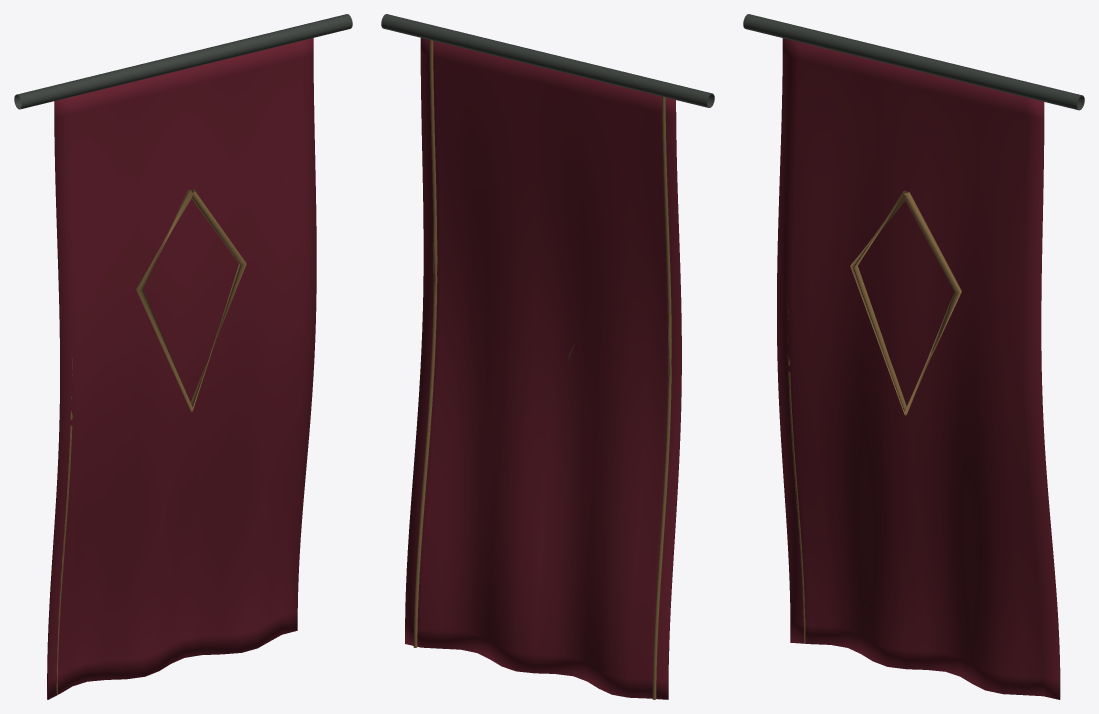
Rendered from C06_embroidered_banner.gltf.
3 views of the same model, side by side, from view 1: azimuth 30°, elevation 25°; view 2: azimuth 150°, elevation 25°; view 3: azimuth 330°, elevation 25° (orthographic). The views are drawn at different scales.
Visible parts, largest first — view 1: Woven hanging standard, Banner suspension rod, Covenant embroidery, Embroidered selvage; view 2: Woven hanging standard, Banner suspension rod, Embroidered selvage.001, Embroidered selvage; view 3: Woven hanging standard, Banner suspension rod, Covenant embroidery, Embroidered selvage.
Part boxes in pixels (x1,y1,x2,y2): Woven hanging standard: (47, 38, 316, 699); Banner suspension rod: (14, 14, 352, 109); Covenant embroidery: (136, 189, 246, 411); Embroidered selvage: (56, 354, 72, 695); Woven hanging standard: (405, 38, 681, 699); Banner suspension rod: (381, 14, 714, 107); Embroidered selvage.001: (413, 40, 437, 647); Embroidered selvage: (652, 96, 671, 699); Woven hanging standard: (777, 38, 1060, 699); Banner suspension rod: (743, 14, 1084, 110); Covenant embroidery: (850, 190, 961, 415); Embroidered selvage: (787, 303, 805, 643).
Size of the model in its own units: 1.6 by 2.86 by 0.2273.
